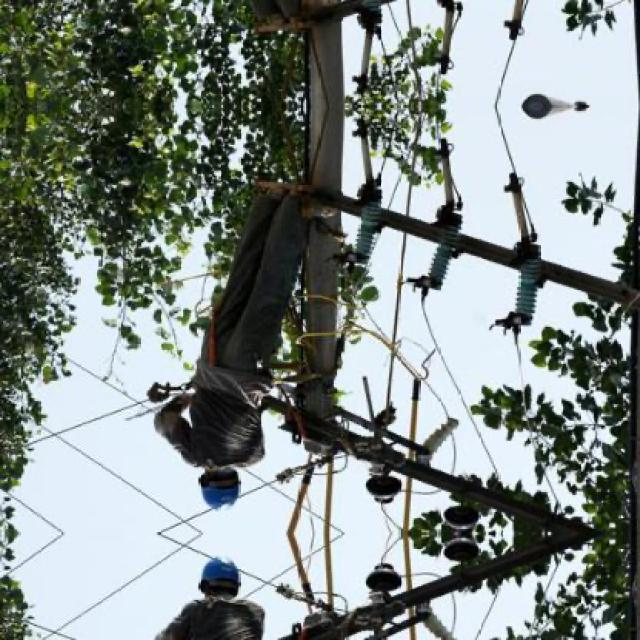con casco: (174, 433, 306, 518)
